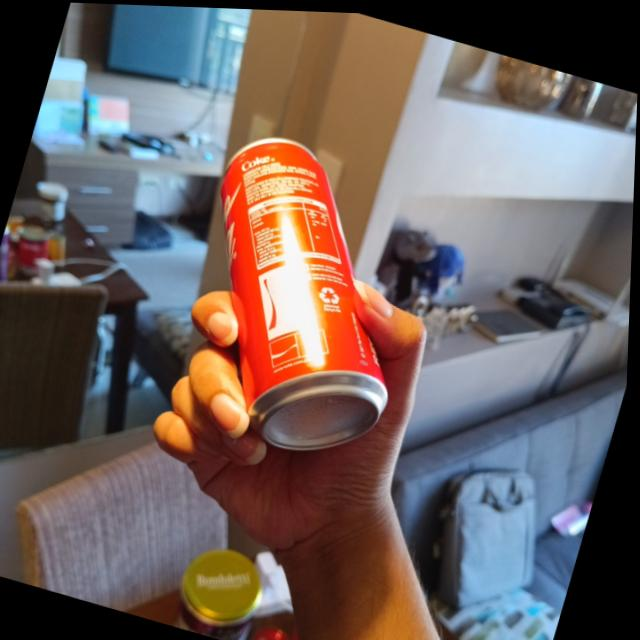coke: (158, 123, 452, 466)
